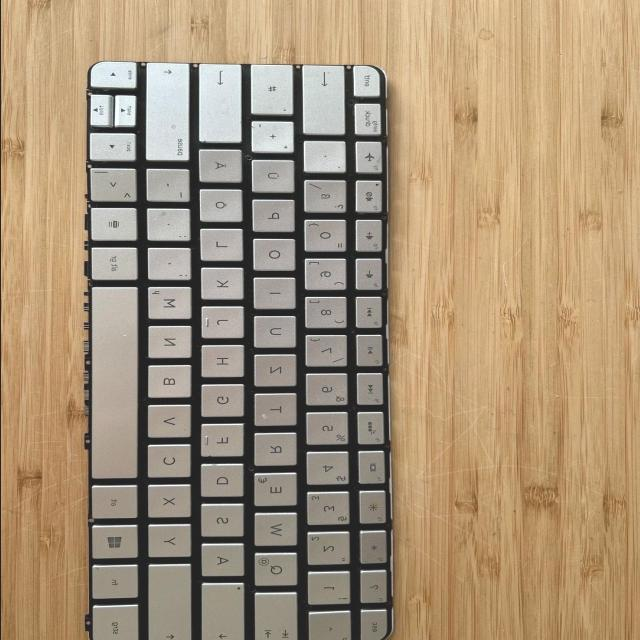0: (305, 220, 349, 254)
1: (308, 573, 353, 607)
2: (307, 532, 352, 568)
3: (307, 493, 353, 528)
4: (307, 453, 351, 487)
5: (307, 413, 351, 448)
6: (307, 374, 351, 408)
7: (306, 335, 350, 369)
8: (305, 297, 349, 331)
9: (305, 259, 349, 293)
a: (202, 544, 248, 580)
accent: (305, 142, 349, 175)
ae: (199, 149, 245, 185)
alt-left: (92, 486, 140, 521)
altgr-right: (91, 248, 140, 283)
b: (148, 365, 194, 401)
c: (148, 445, 194, 481)
caret: (310, 612, 355, 640)
comma: (148, 249, 195, 283)
d: (201, 464, 247, 500)
del: (304, 66, 349, 137)
e: (255, 473, 301, 509)
enter: (200, 64, 246, 145)
f: (201, 424, 247, 459)
g: (201, 384, 247, 420)
h: (201, 346, 247, 380)
hash: (251, 64, 296, 116)
i: (255, 278, 299, 312)
j: (201, 307, 247, 341)
k: (201, 267, 247, 302)
keyboard: (75, 49, 397, 640)
l: (200, 229, 246, 263)
less: (90, 168, 138, 204)
m: (148, 287, 196, 323)
minus: (148, 170, 192, 205)
n: (148, 326, 195, 362)
o: (253, 238, 298, 274)
oe: (200, 189, 246, 225)
p: (253, 200, 298, 235)
plus: (251, 122, 297, 156)
point: (148, 209, 194, 245)
q: (254, 553, 300, 589)
r: (254, 433, 300, 469)
s: (201, 504, 247, 540)
shift-left: (149, 564, 196, 640)
shift-lock: (202, 584, 248, 640)
shift-right: (146, 63, 194, 166)
space: (92, 286, 142, 482)
ss: (305, 181, 349, 216)
strg-left: (93, 605, 142, 640)
t: (255, 394, 300, 428)
tab: (256, 594, 302, 640)
u: (254, 316, 299, 351)
ue: (252, 160, 298, 196)
v: (148, 405, 194, 441)
w: (255, 513, 301, 549)
x: (148, 484, 194, 520)
y: (149, 524, 194, 560)
z: (255, 354, 299, 389)
